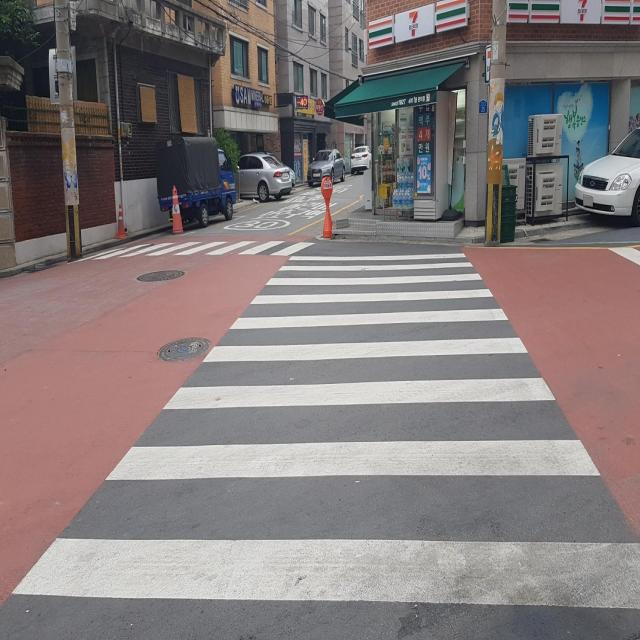횡단보도: (9, 251, 640, 610), (69, 237, 316, 260)
